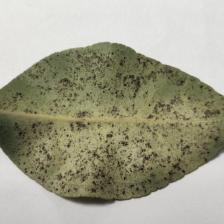canker: (51, 69, 161, 180)
